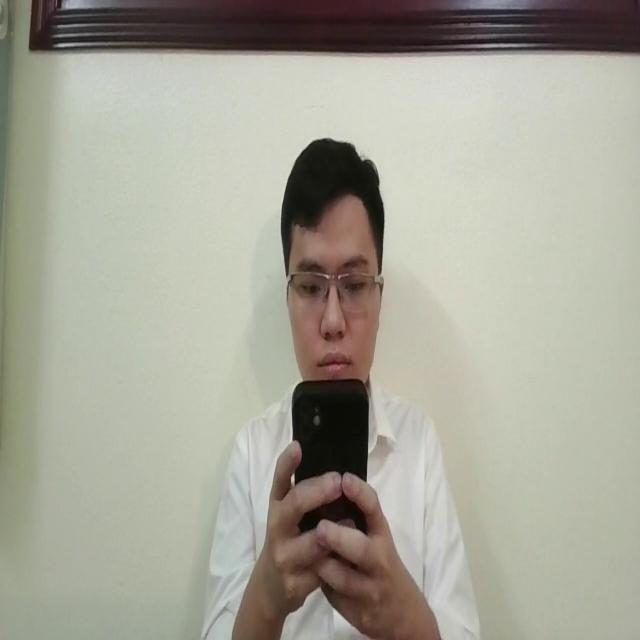phone: (287, 371, 372, 536)
student: (199, 135, 480, 640)
